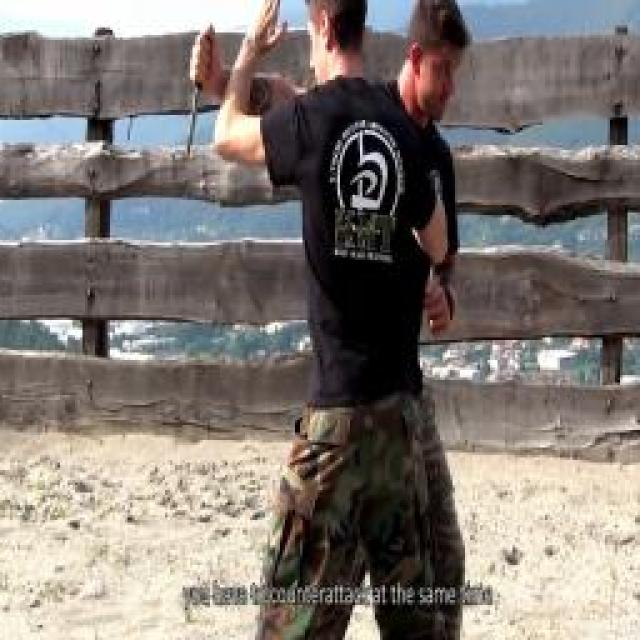knife: (180, 18, 218, 172)
